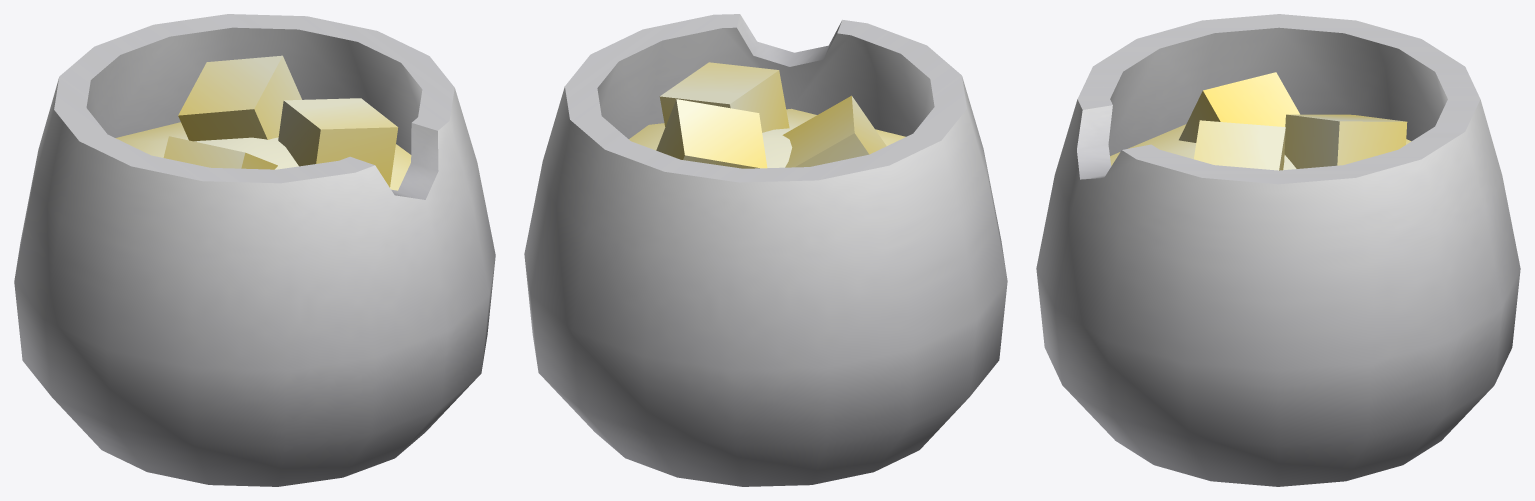
Rendered from m_SugarContainer01_WhiteSugar02.fbx.
3 views of the same model, side by side, from view 1: azimuth 30°, elevation 25°; view 2: azimuth 150°, elevation 25°; view 3: azimuth 270°, elevation 25° (orthographic).
Visible parts, largest first — view 1: m_SugarContainer01_WhiteSugar02; view 2: m_SugarContainer01_WhiteSugar02; view 3: m_SugarContainer01_WhiteSugar02.
Part boxes in pixels (x1=…): m_SugarContainer01_WhiteSugar02: x1=14, y1=14, x2=495, y2=486; m_SugarContainer01_WhiteSugar02: x1=524, y1=14, x2=1007, y2=486; m_SugarContainer01_WhiteSugar02: x1=1036, y1=14, x2=1520, y2=486.
Bounding box in the file's own units: 11.21 × 8.16 × 11.21.
